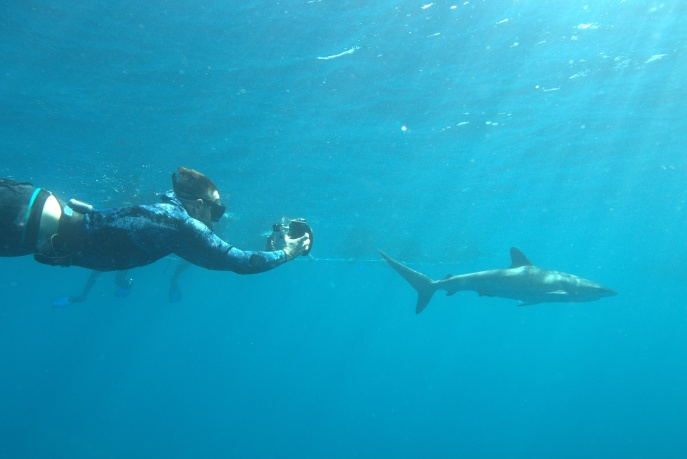Sedoso: (373, 232, 628, 334)
